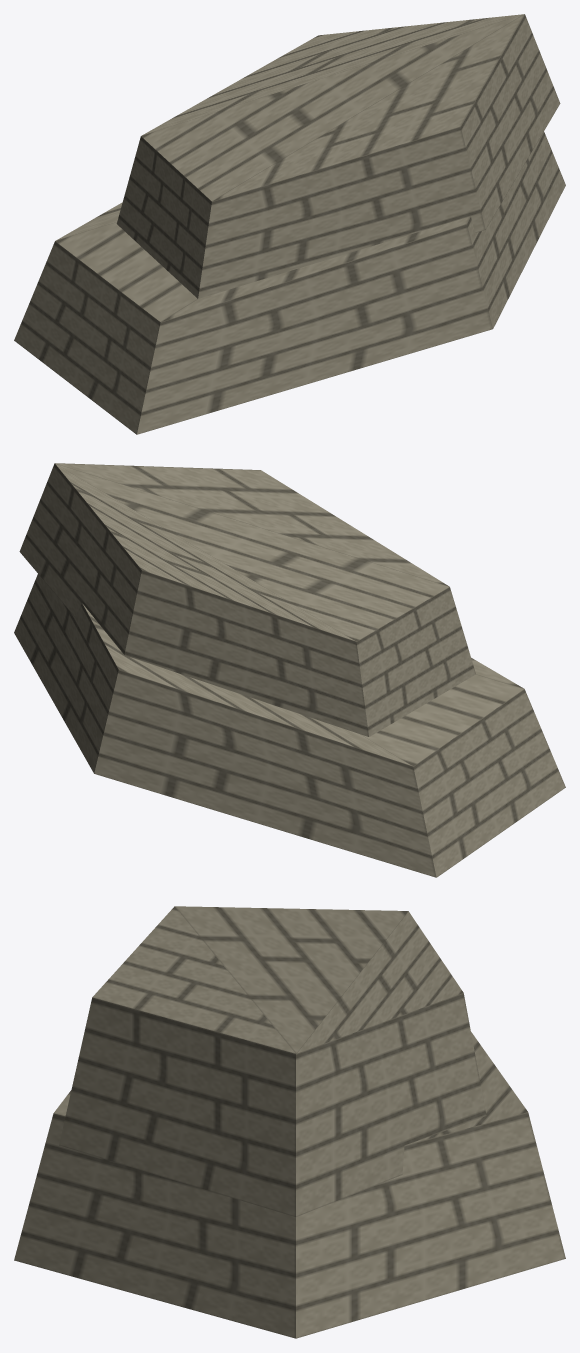
File: rock-strata-lod1.glb
3 views of the same model, one above another, from view 1: azimuth 30°, elevation 25°; view 2: azimuth 150°, elevation 25°; view 3: azimuth 270°, elevation 25° (orthographic). The views are drawn at different scales.
Size of the model in its own units: 0.5525 by 0.2824 by 0.3785.
1 material, 1 textured.
